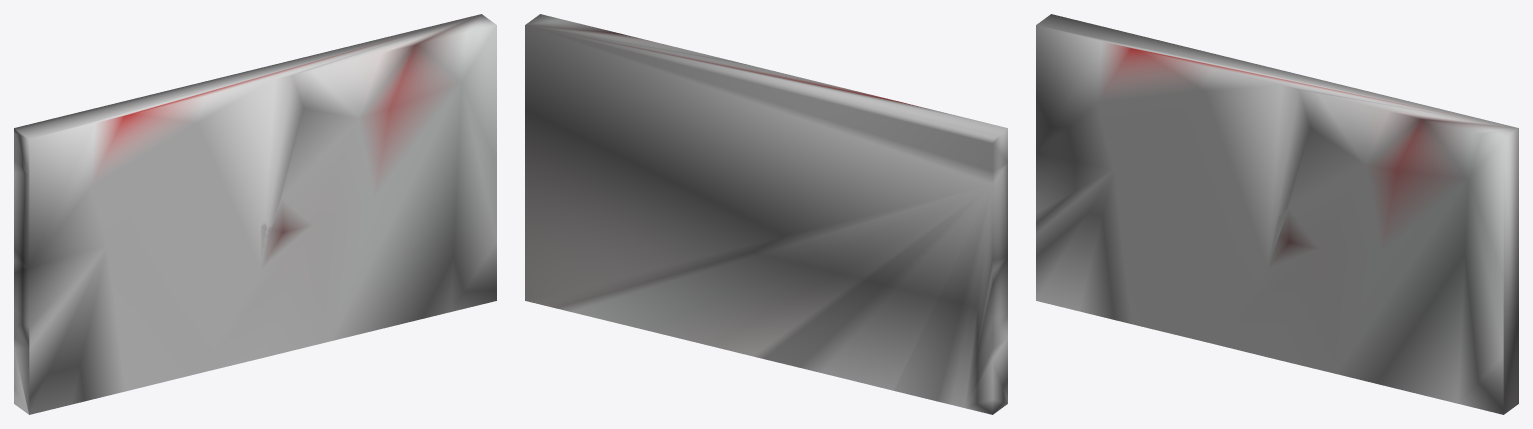
File: SM_FA_Factory_W355_H200.fbx
The picture shows the model from 3 angles, left to right: view 1: azimuth 30°, elevation 25°; view 2: azimuth 150°, elevation 25°; view 3: azimuth 330°, elevation 25°; orthographic projection.
Parts seen in each view (by area): view 1: SM_FA_Factory_W355_H200; view 2: SM_FA_Factory_W355_H200; view 3: SM_FA_Factory_W355_H200.
Boxes of the visible parts, <box> form: SM_FA_Factory_W355_H200: <box>14,14,496,414</box>; SM_FA_Factory_W355_H200: <box>525,14,1007,414</box>; SM_FA_Factory_W355_H200: <box>1036,14,1518,414</box>.
Size of the model in its own units: 355 by 20 by 200.
